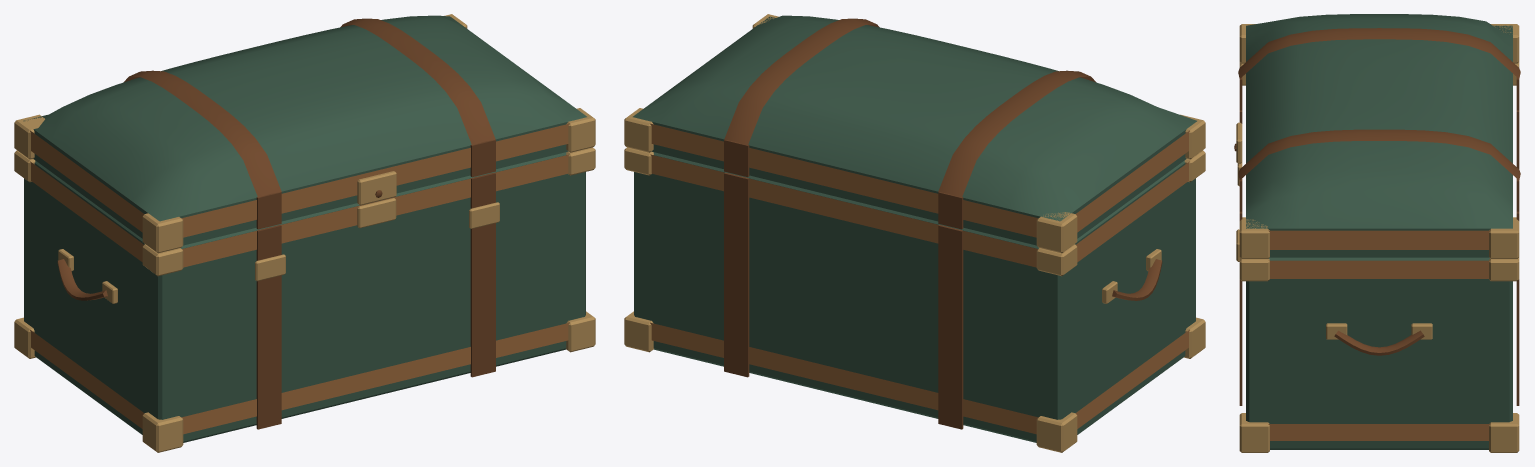
File: steamer_trunk.glb
The picture shows the model from 3 angles, left to right: view 1: azimuth 30°, elevation 25°; view 2: azimuth 150°, elevation 25°; view 3: azimuth 270°, elevation 25°; orthographic projection. The views are drawn at different scales.
Parts seen in each view (by area): view 1: steamer_trunk, lid; view 2: steamer_trunk, lid; view 3: lid, steamer_trunk.
Boxes of the visible parts, x1=… form: steamer_trunk: x1=14, y1=147, x2=595, y2=452; lid: x1=14, y1=14, x2=595, y2=253; steamer_trunk: x1=624, y1=147, x2=1205, y2=452; lid: x1=624, y1=14, x2=1205, y2=253; lid: x1=1234, y1=14, x2=1520, y2=258; steamer_trunk: x1=1236, y1=62, x2=1519, y2=452.
Bounding box in the file's own units: 0.9813 × 0.5523 × 0.537.
